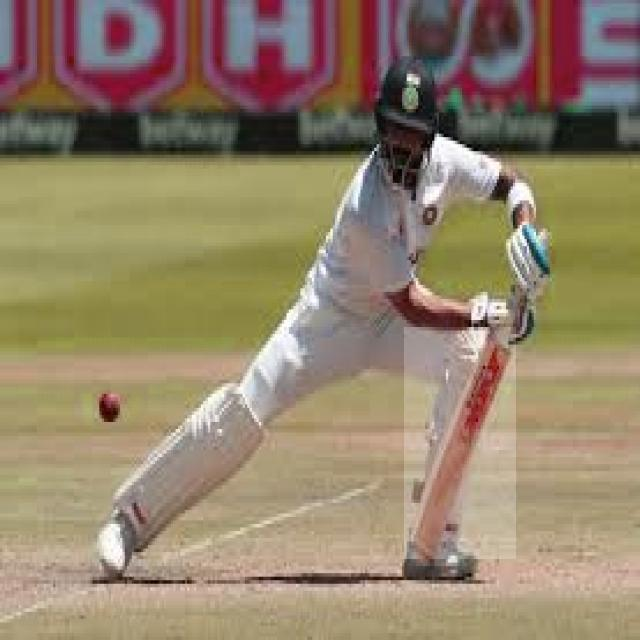bat: (403, 326, 510, 558)
toe: (403, 540, 453, 558)
